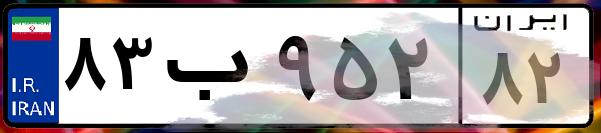2: (385, 28, 445, 110), (525, 38, 570, 115)
3: (110, 28, 158, 98)
5: (330, 28, 385, 110)
8: (57, 26, 110, 100), (475, 38, 525, 113)
9: (270, 28, 330, 110)
ب: (158, 20, 270, 120)
